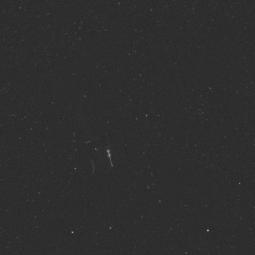earth_observation_sat_1: (66, 117, 136, 183)
